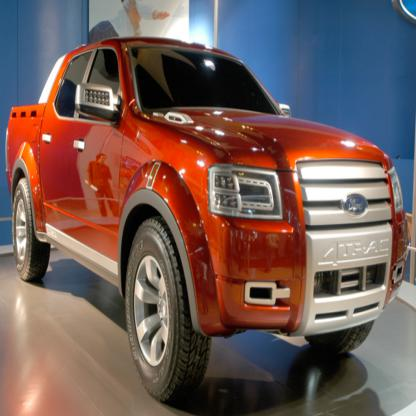Truck: (5, 36, 408, 403)
